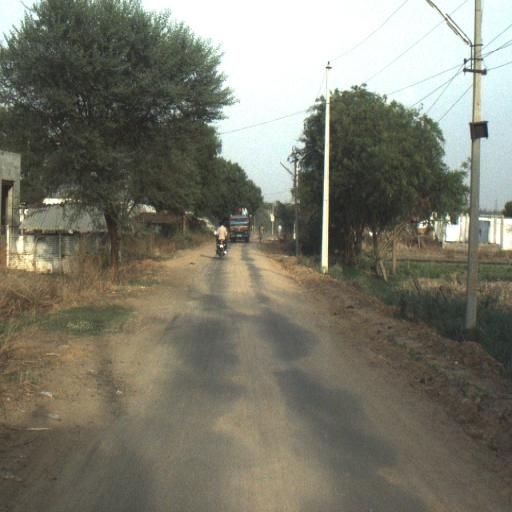street_light_0: (424, 1, 484, 75), (279, 159, 298, 186)
